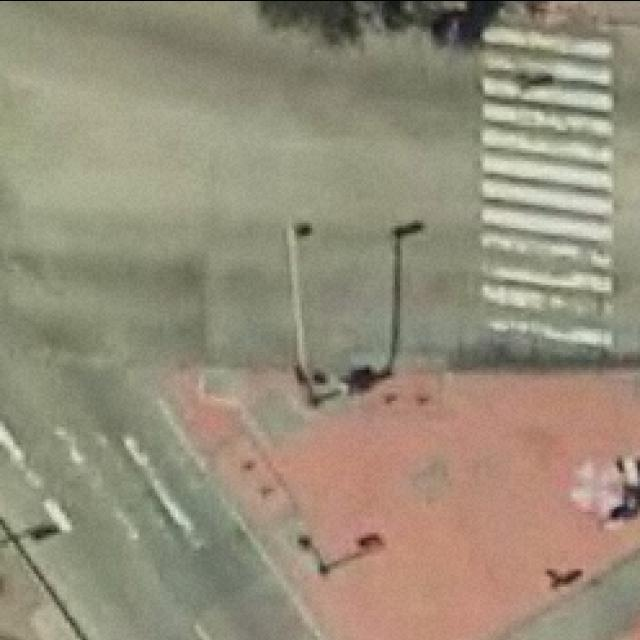vendedor_ambulante: (566, 451, 630, 517)
